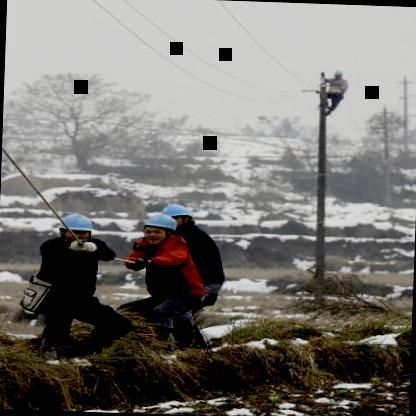helmet: (156, 201, 194, 234), (142, 214, 178, 245), (61, 214, 96, 242)
